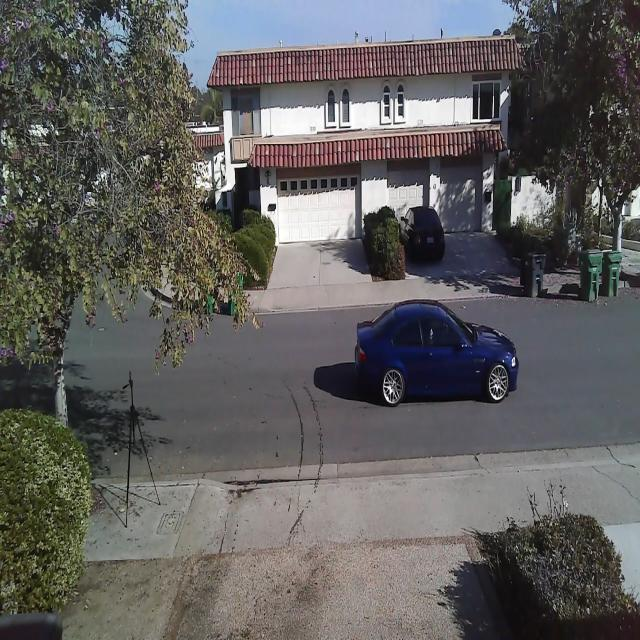Carbeetle: (346, 294, 524, 411)
Civilian: (397, 206, 445, 264)
